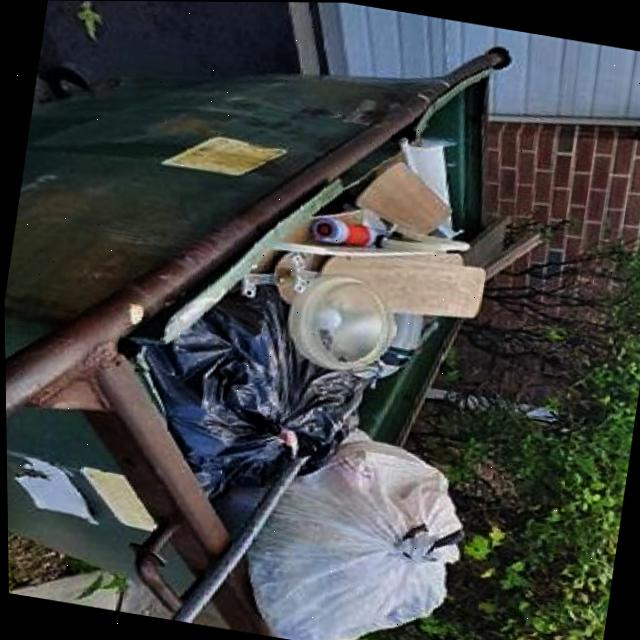Garbage: (125, 47, 540, 640)
Plastic_Bag: (143, 286, 382, 498), (247, 431, 460, 640)
Plastic_Container: (290, 277, 390, 369)
